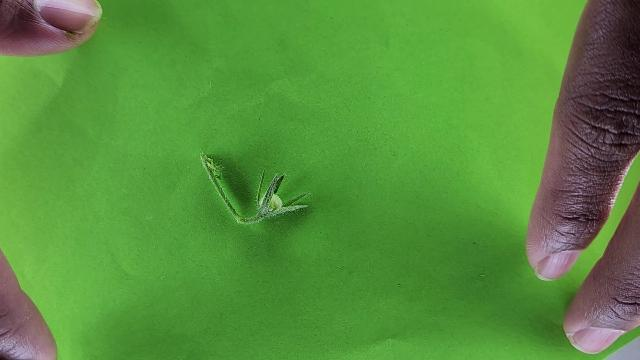Fruit Bud: (257, 170, 309, 220)
